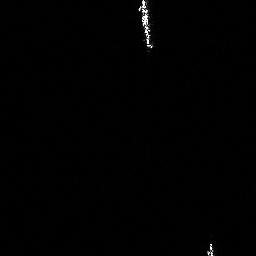ship: (134, 1, 158, 51)
